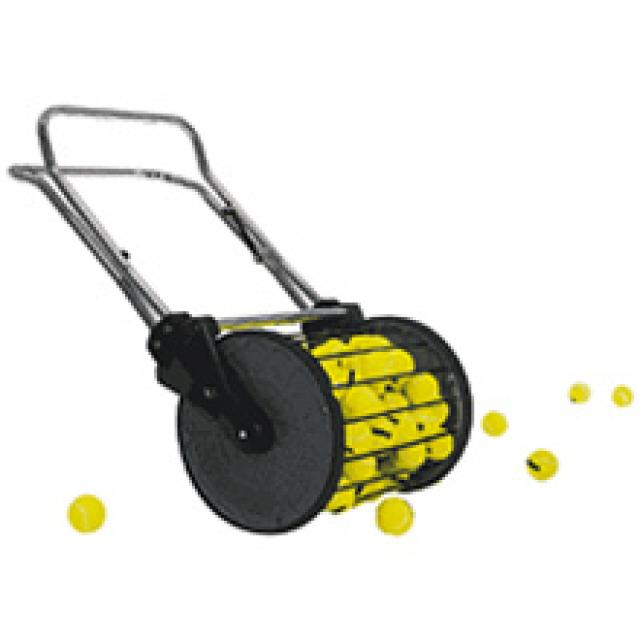Tennis Ball: (64, 492, 108, 535), (375, 497, 416, 538), (524, 448, 561, 486), (405, 374, 439, 403), (345, 385, 378, 413), (343, 455, 377, 482), (608, 381, 637, 410), (327, 479, 354, 510), (373, 408, 407, 432), (365, 353, 396, 378), (480, 413, 509, 439), (395, 445, 425, 469), (364, 478, 396, 500), (426, 434, 453, 460), (567, 378, 593, 404), (389, 349, 415, 374), (352, 427, 379, 451), (373, 382, 401, 405), (417, 404, 446, 426), (346, 420, 369, 446), (391, 420, 418, 442), (350, 354, 369, 380), (333, 366, 360, 384), (377, 397, 409, 411), (334, 388, 350, 416), (347, 334, 372, 351), (376, 430, 399, 448), (322, 355, 340, 378), (364, 335, 392, 349), (404, 408, 424, 426), (390, 373, 412, 389), (368, 418, 389, 434), (421, 426, 445, 438), (328, 340, 348, 353), (310, 345, 334, 355), (339, 354, 351, 366)
